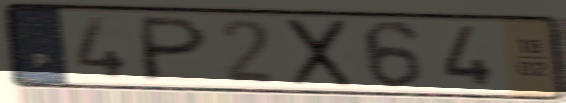2: (219, 17, 278, 86)
4: (73, 13, 132, 82), (439, 23, 498, 91)
6: (359, 18, 426, 91)
P: (137, 13, 211, 85)
X: (284, 16, 356, 89)
